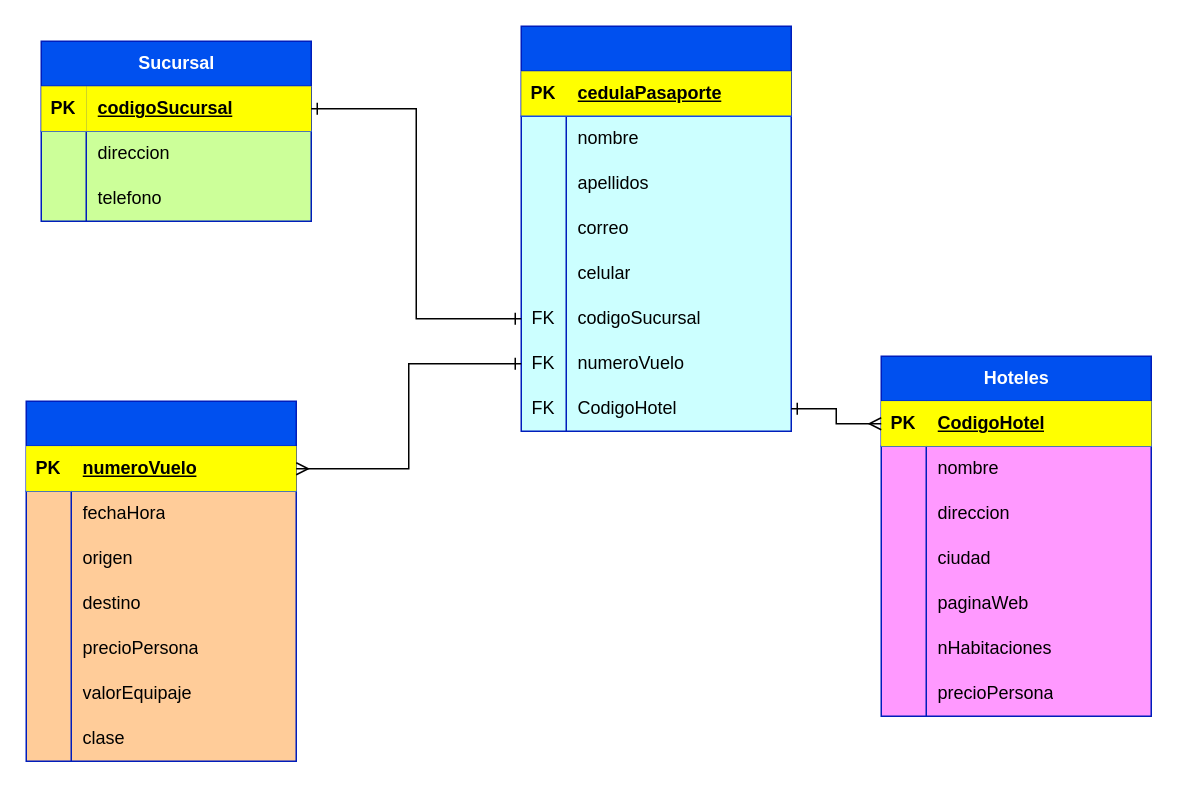
Some shapes in this 1178 by 788 pixel diagram are drawn without their labels. The box of each missing label's shape, as (x1, y1, x2, y2) in pixels:
Turistas: (520, 25, 791, 431)
Vuelos: (25, 400, 296, 761)
